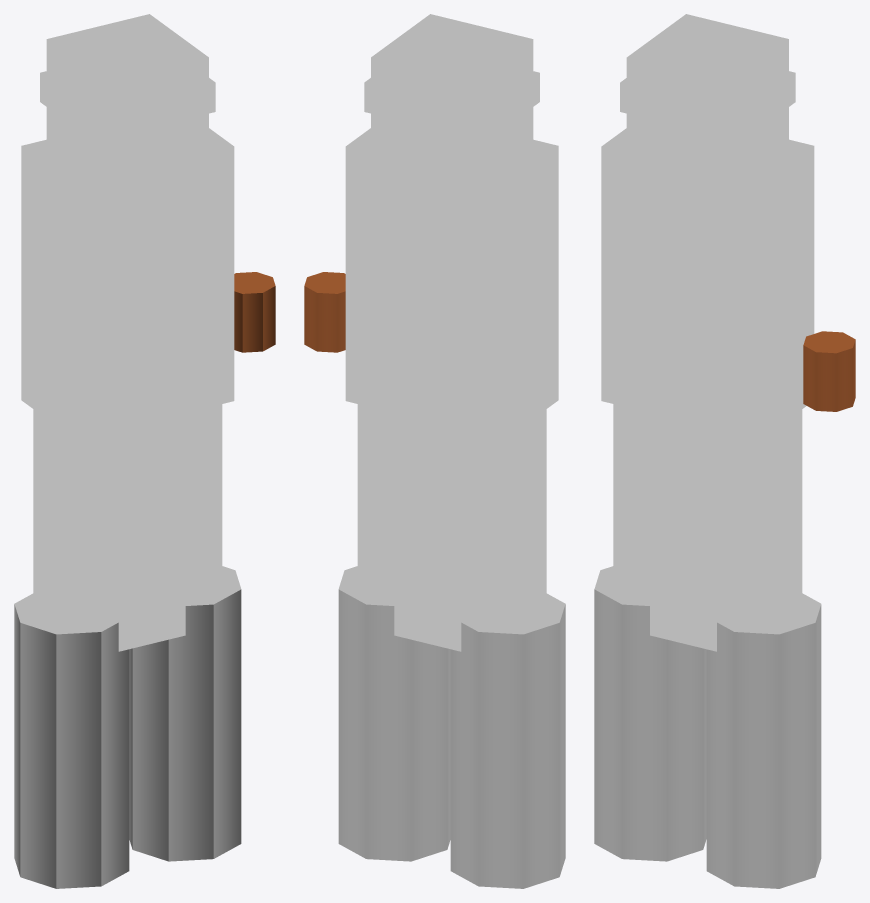
The model's file is staff-founder-idle.obj.
3 views of the same model, side by side, from view 1: azimuth 30°, elevation 25°; view 2: azimuth 150°, elevation 25°; view 3: azimuth 330°, elevation 25° (orthographic).
Parts seen in each view (by area): view 1: staff-founder-idle; view 2: staff-founder-idle; view 3: staff-founder-idle.
Part boxes in pixels (x1,y1,x2,y2): staff-founder-idle: (14, 14, 275, 888); staff-founder-idle: (304, 14, 565, 888); staff-founder-idle: (594, 14, 855, 888).
Size of the model in its own units: 0.54 by 1.64 by 0.22.
